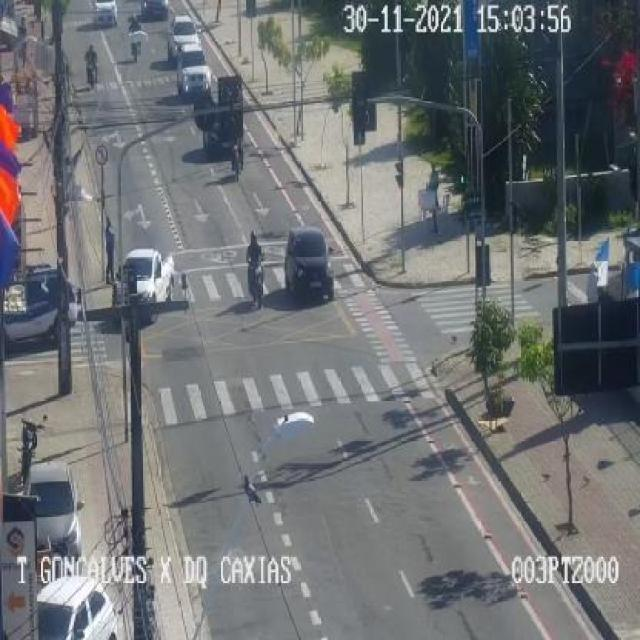Car: (14, 448, 83, 578), (112, 240, 182, 327), (25, 581, 117, 640), (280, 226, 338, 303), (177, 43, 210, 102), (169, 12, 201, 64), (128, 14, 144, 62)
Cycle: (240, 225, 273, 308), (82, 43, 106, 88)
